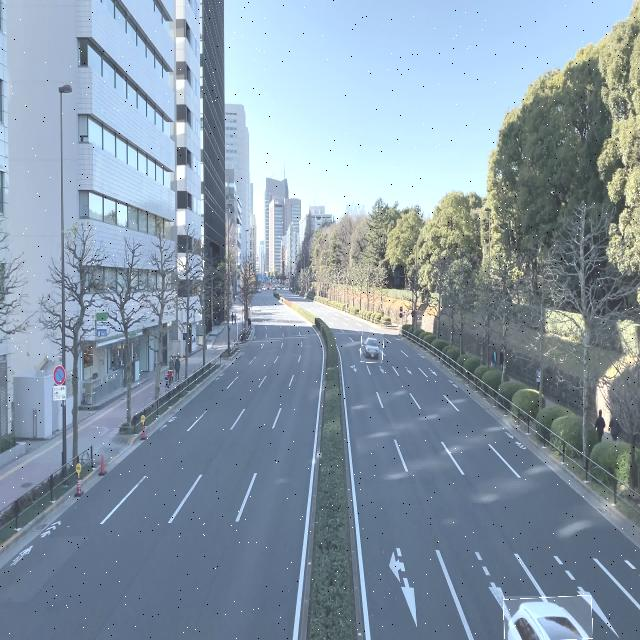Car: (503, 596, 592, 640), (361, 333, 383, 363)
